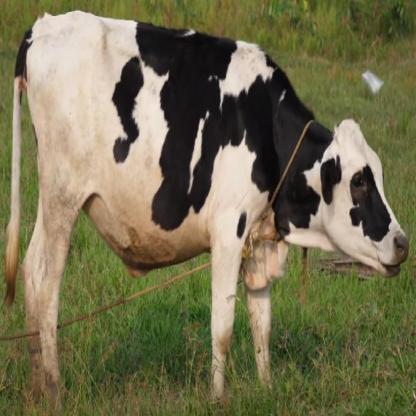cow: (25, 15, 407, 399)
